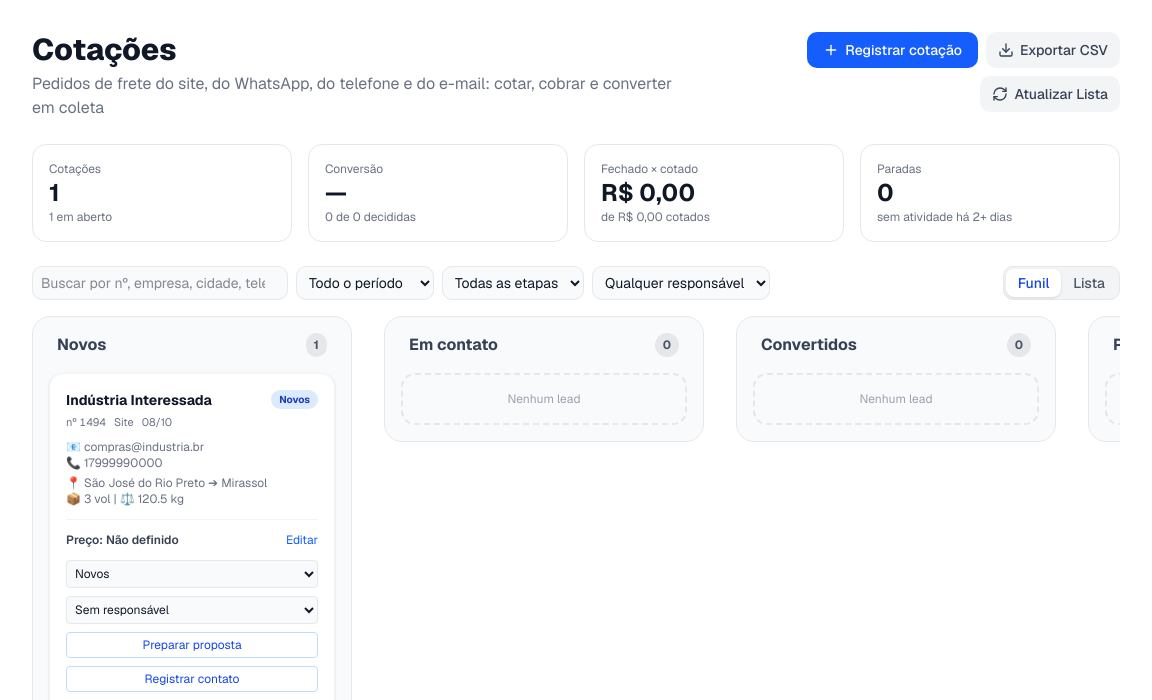
it: tela do funil de cotações › sem valor impede a proposta e orienta editar o preço
Click the button "Preparar proposta" at (192, 644), box [66,632,318,658]
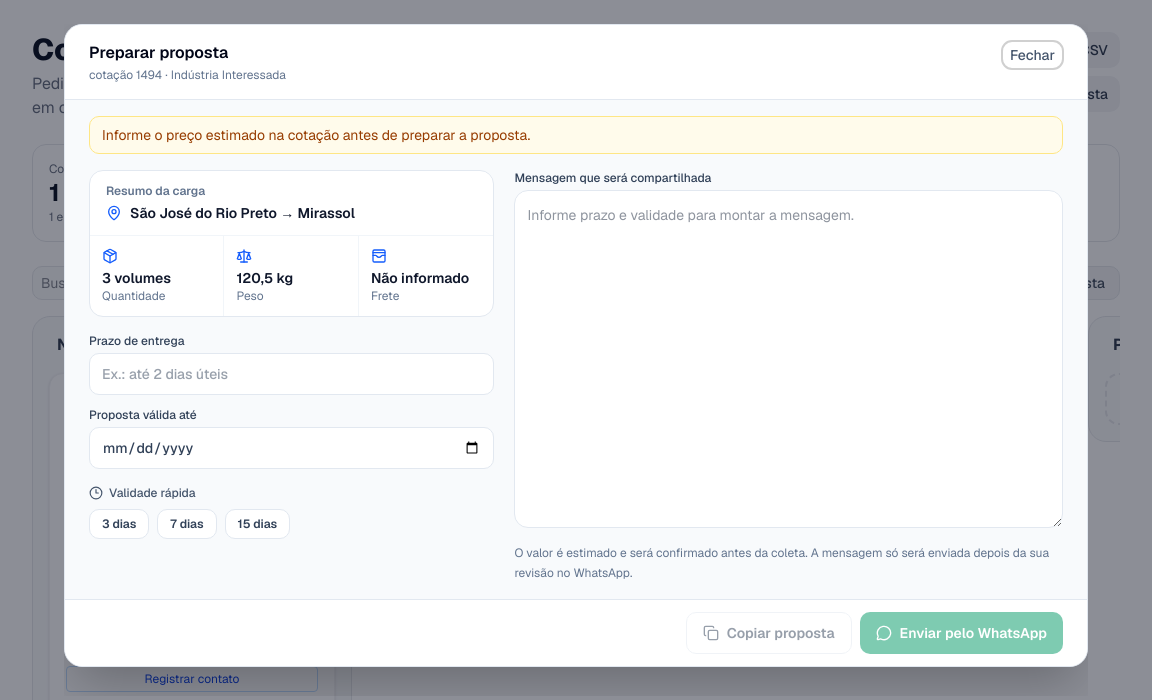
Now the message "Informe o preço estimado na cotação antes de preparar a proposta." is shown, box [89,116,1063,154]
Now the button "Copiar proposta" is disabled, box [686,612,852,654]
Now the button "Enviar pelo WhatsApp" is disabled, box [860,612,1063,654]
